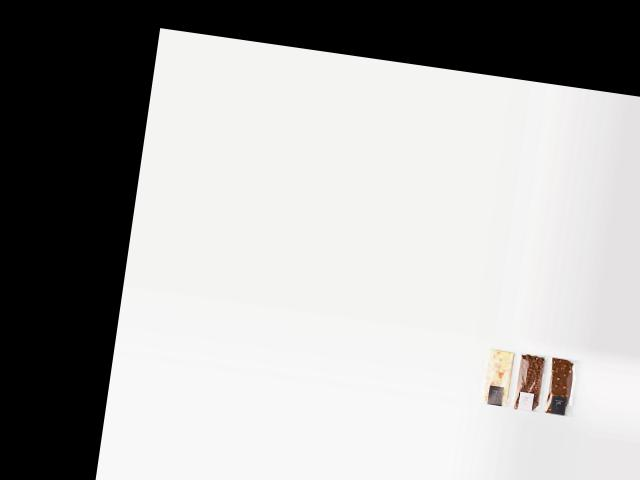chocolate: (542, 351, 585, 416)
